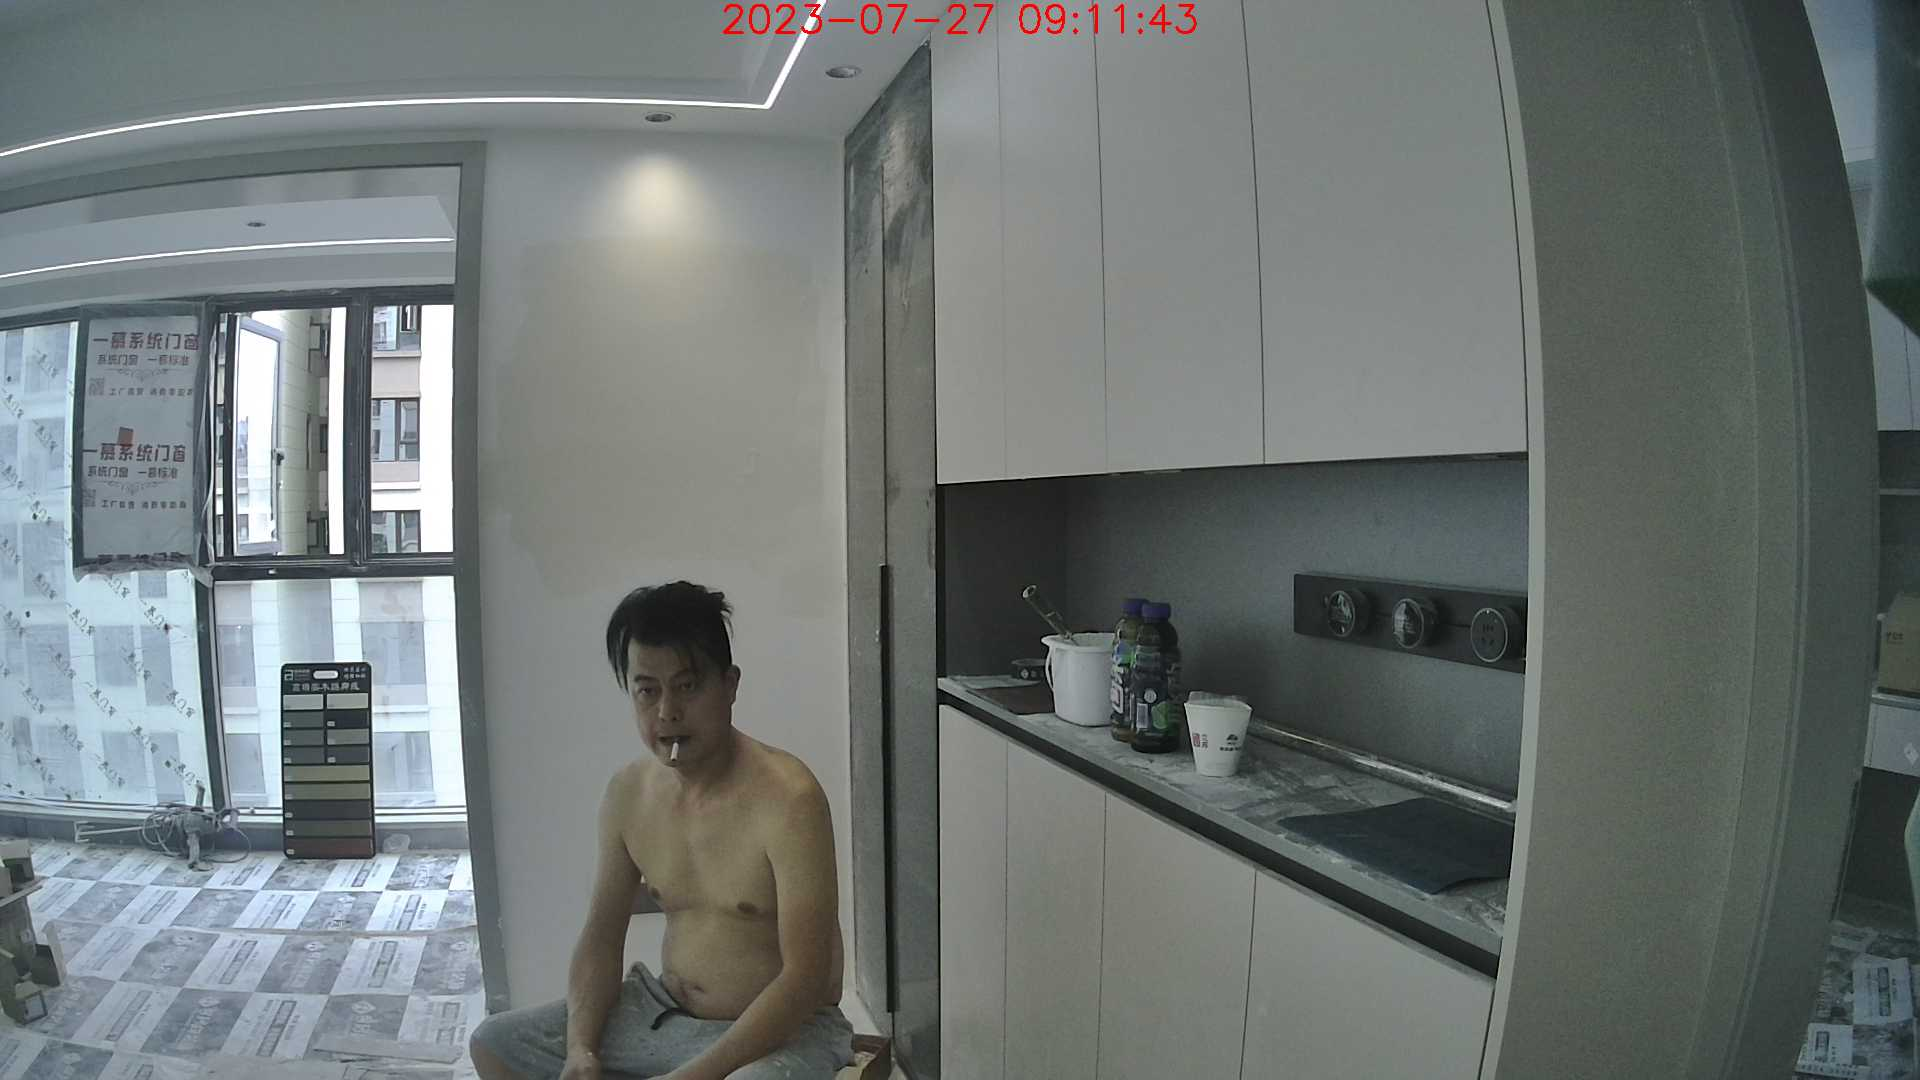people: (474, 584, 844, 1080)
window: (1, 322, 465, 826)
